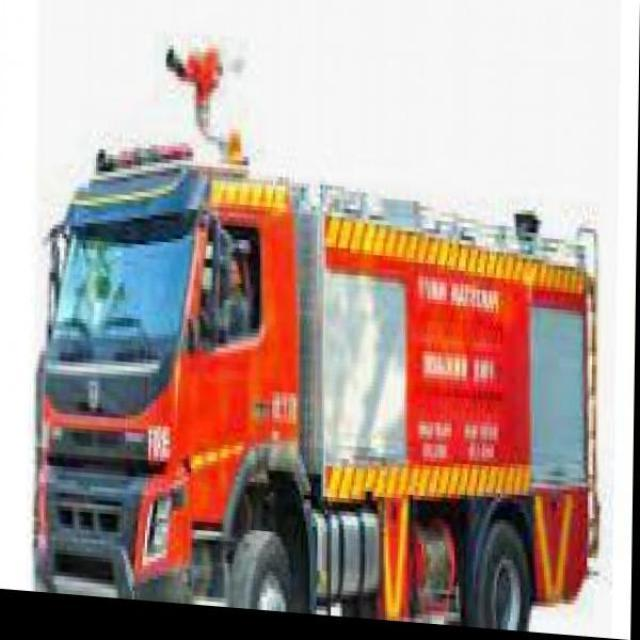emergency: (32, 135, 600, 630)
